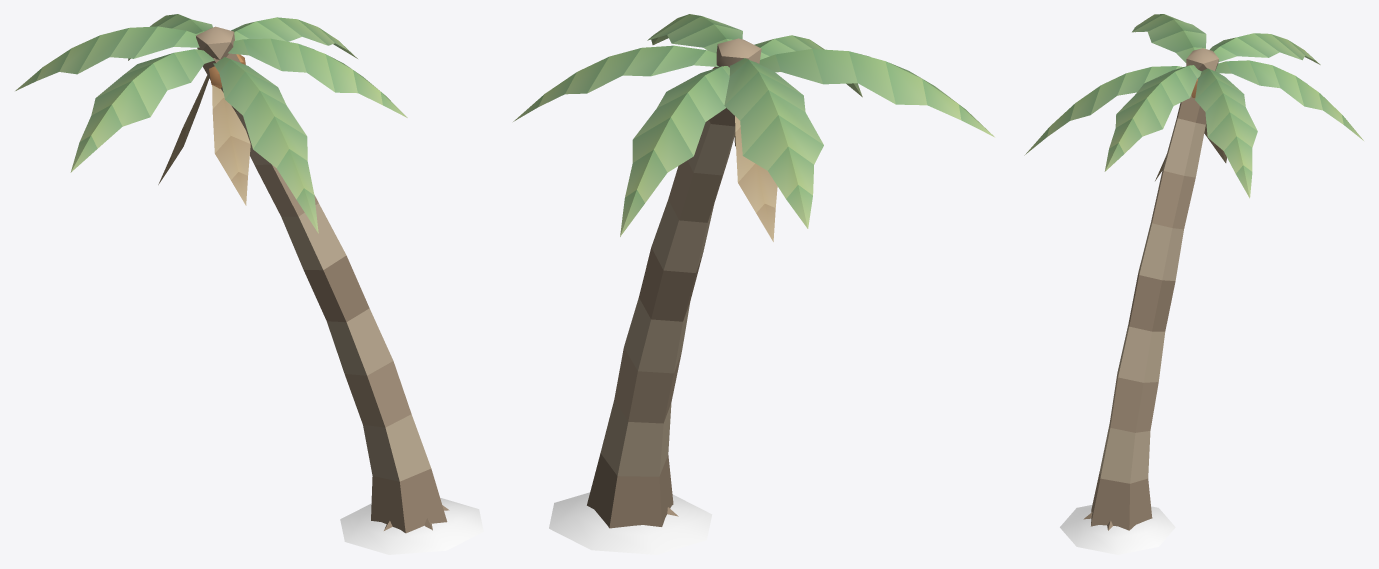
The model's file is palmera_b_ligero.glb.
3 views of the same model, side by side, from view 1: azimuth 30°, elevation 25°; view 2: azimuth 150°, elevation 25°; view 3: azimuth 270°, elevation 25° (orthographic). The views are drawn at different scales.
Parts seen in each view (by area): view 1: palmera_b_hojas, palmera_b, palmera_b_arena; view 2: palmera_b_hojas, palmera_b, palmera_b_arena; view 3: palmera_b, palmera_b_hojas, palmera_b_arena.
Boxes of the visible parts, left/top/right/bottom form: palmera_b_hojas: left=15, top=14, right=407, bottom=233; palmera_b: left=196, top=26, right=449, bottom=533; palmera_b_arena: left=340, top=497, right=483, bottom=554; palmera_b_hojas: left=513, top=14, right=994, bottom=241; palmera_b: left=587, top=38, right=761, bottom=528; palmera_b_arena: left=549, top=492, right=712, bottom=554; palmera_b: left=1083, top=48, right=1218, bottom=530; palmera_b_hojas: left=1024, top=14, right=1363, bottom=198; palmera_b_arena: left=1060, top=505, right=1175, bottom=554.
Size of the model in its own units: 5.34 by 6.51 by 4.69.
